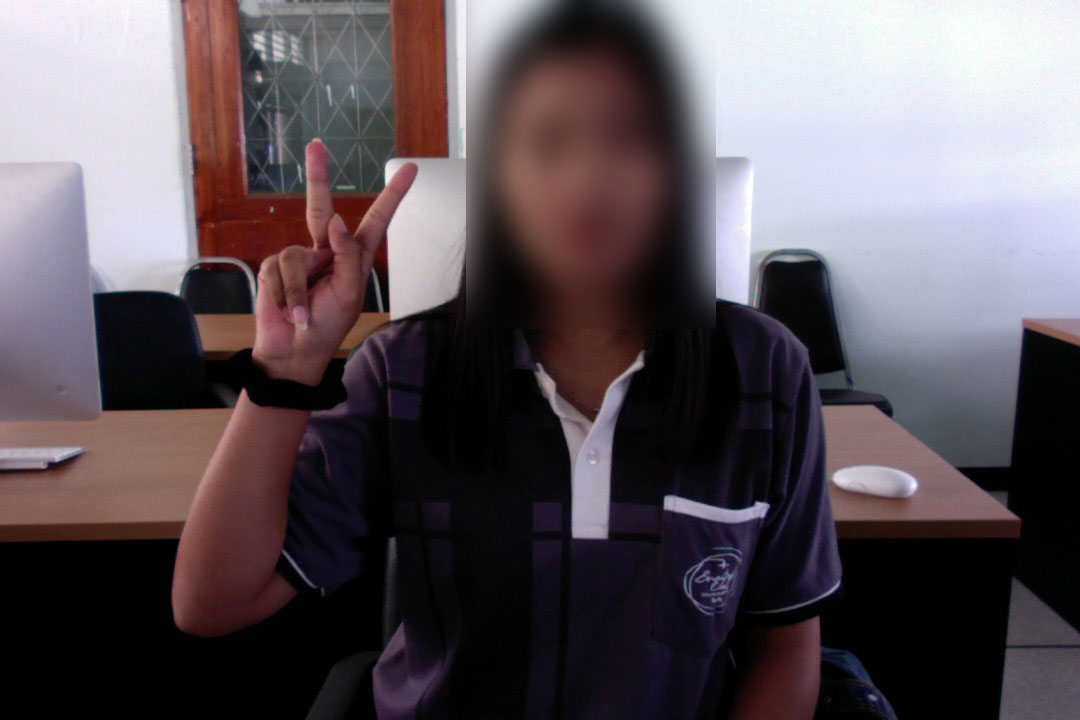ko: (231, 132, 422, 384)
